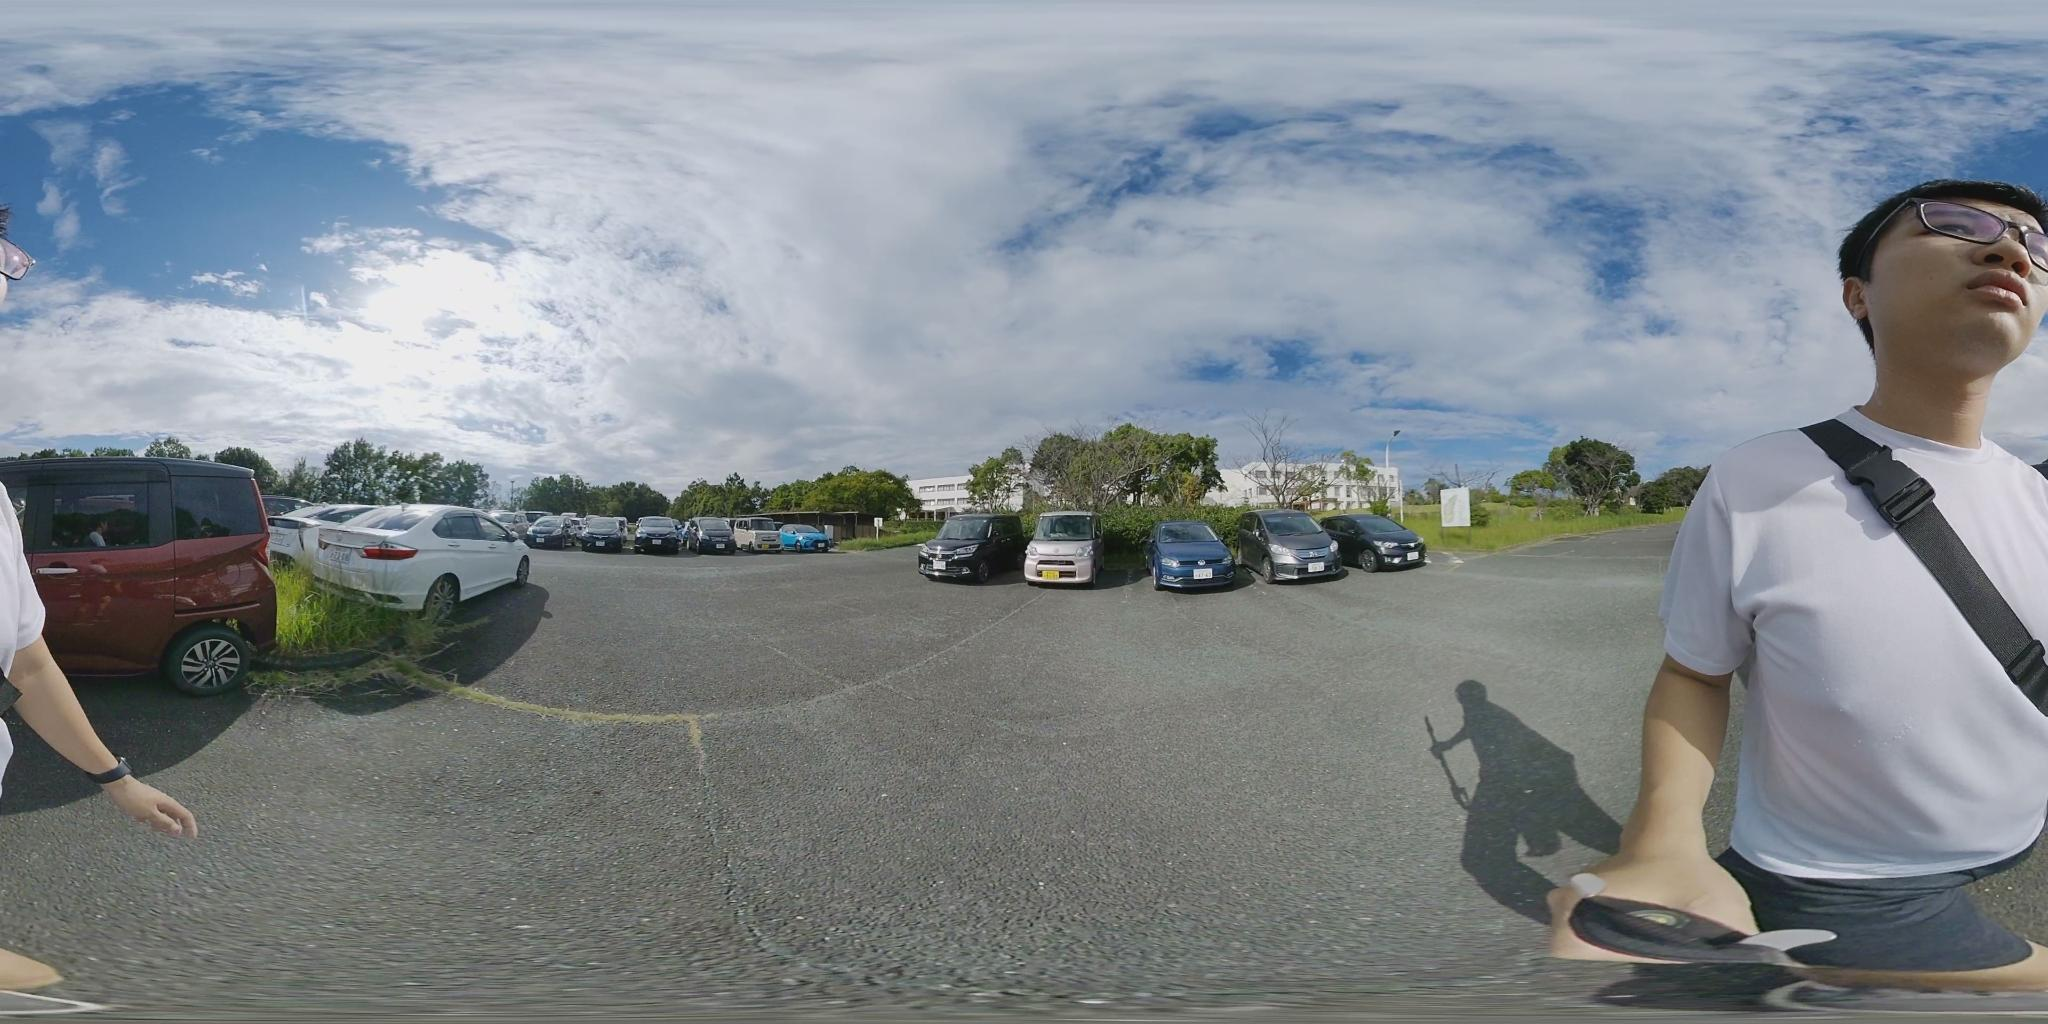car: (280, 503, 537, 613), (920, 513, 1025, 583), (1152, 519, 1247, 593), (1253, 511, 1352, 581), (1317, 515, 1425, 572), (1024, 513, 1098, 585), (627, 519, 684, 554), (690, 521, 742, 552), (577, 519, 627, 551), (522, 517, 572, 549), (776, 525, 828, 552)
